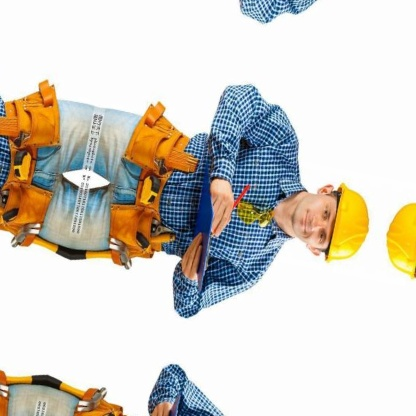yellow: (317, 170, 381, 278)
